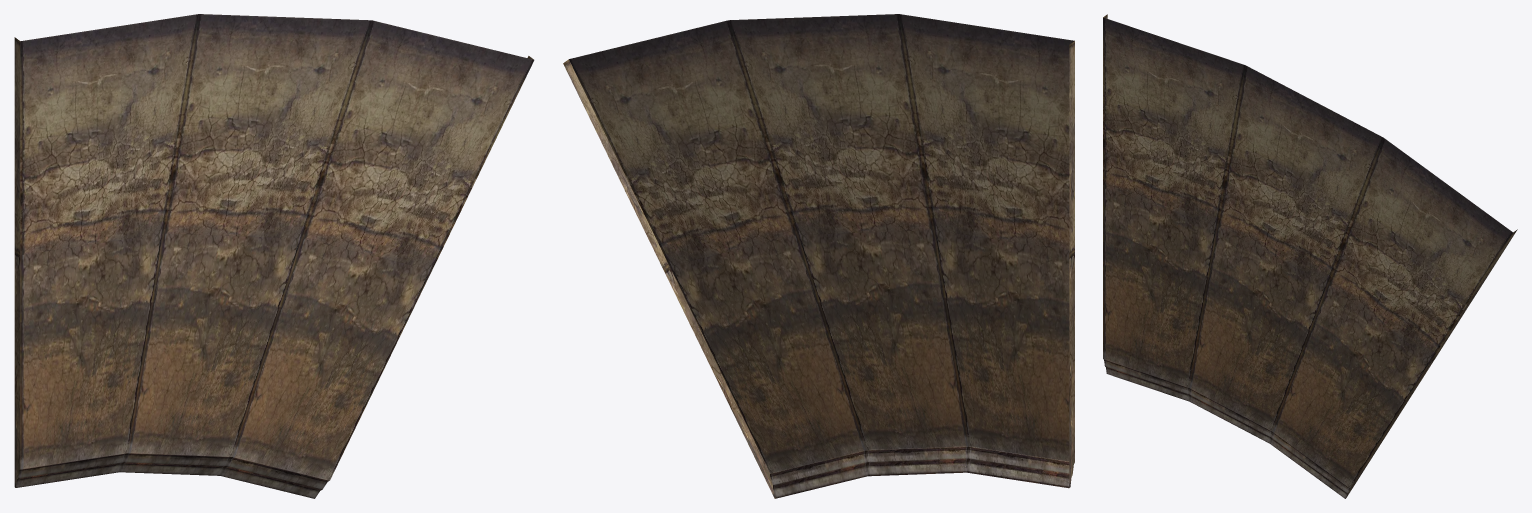
The picture shows the model from 3 angles, left to right: view 1: azimuth 30°, elevation 25°; view 2: azimuth 150°, elevation 25°; view 3: azimuth 330°, elevation 25°; orthographic projection. The views are drawn at different scales.
Visible parts, largest first — view 1: model_Object02; view 2: model_Object02; view 3: model_Object02.
Part boxes in pixels (x1,y1,x2,y2): model_Object02: [14, 14, 534, 498]; model_Object02: [563, 14, 1074, 498]; model_Object02: [1103, 14, 1517, 498].
Size of the model in its own units: 11.44 by 11.36 by 0.2287.
Materials: 2 (2 with a texture image).
